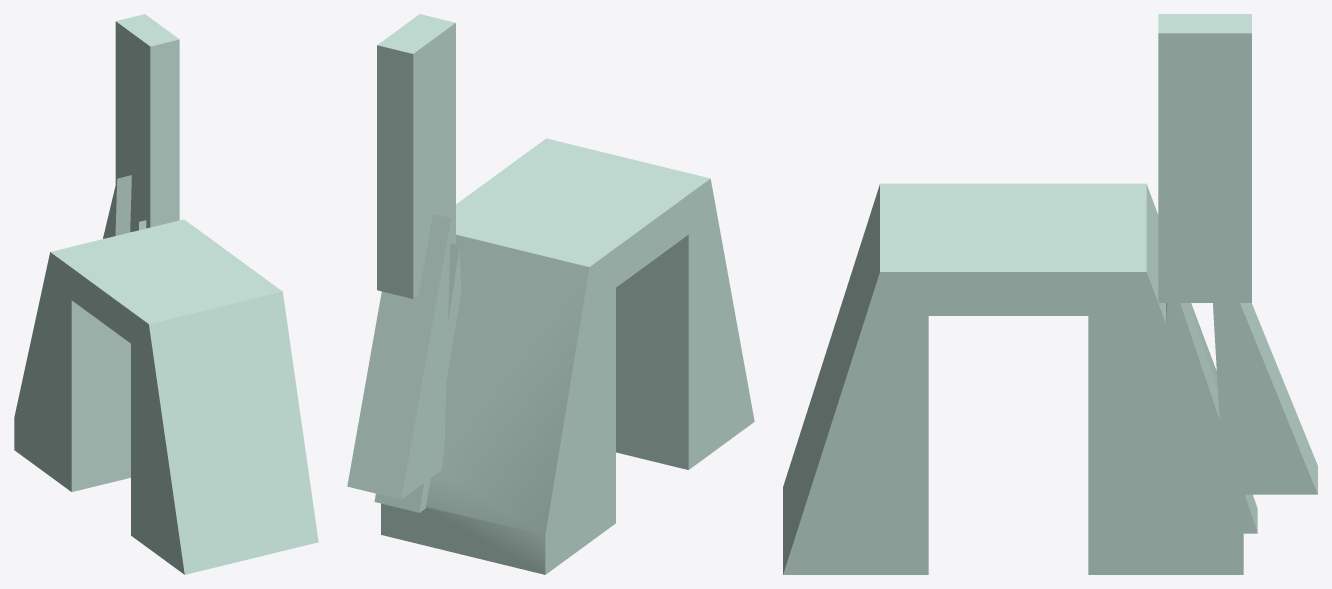
3 renders of one model, left to right at view 1: azimuth 30°, elevation 25°; view 2: azimuth 150°, elevation 25°; view 3: azimuth 270°, elevation 25°, orthographic. The views are drawn at different scales.
Parts seen in each view (by area): view 1: Renderer Node; view 2: Renderer Node; view 3: Renderer Node.
Boxes of the visible parts, x1,y1,x2,y2 form: Renderer Node: (14, 14, 318, 574); Renderer Node: (347, 14, 754, 574); Renderer Node: (783, 14, 1317, 574).
Size of the model in its own units: 0.5703 by 1.63 by 1.46.
